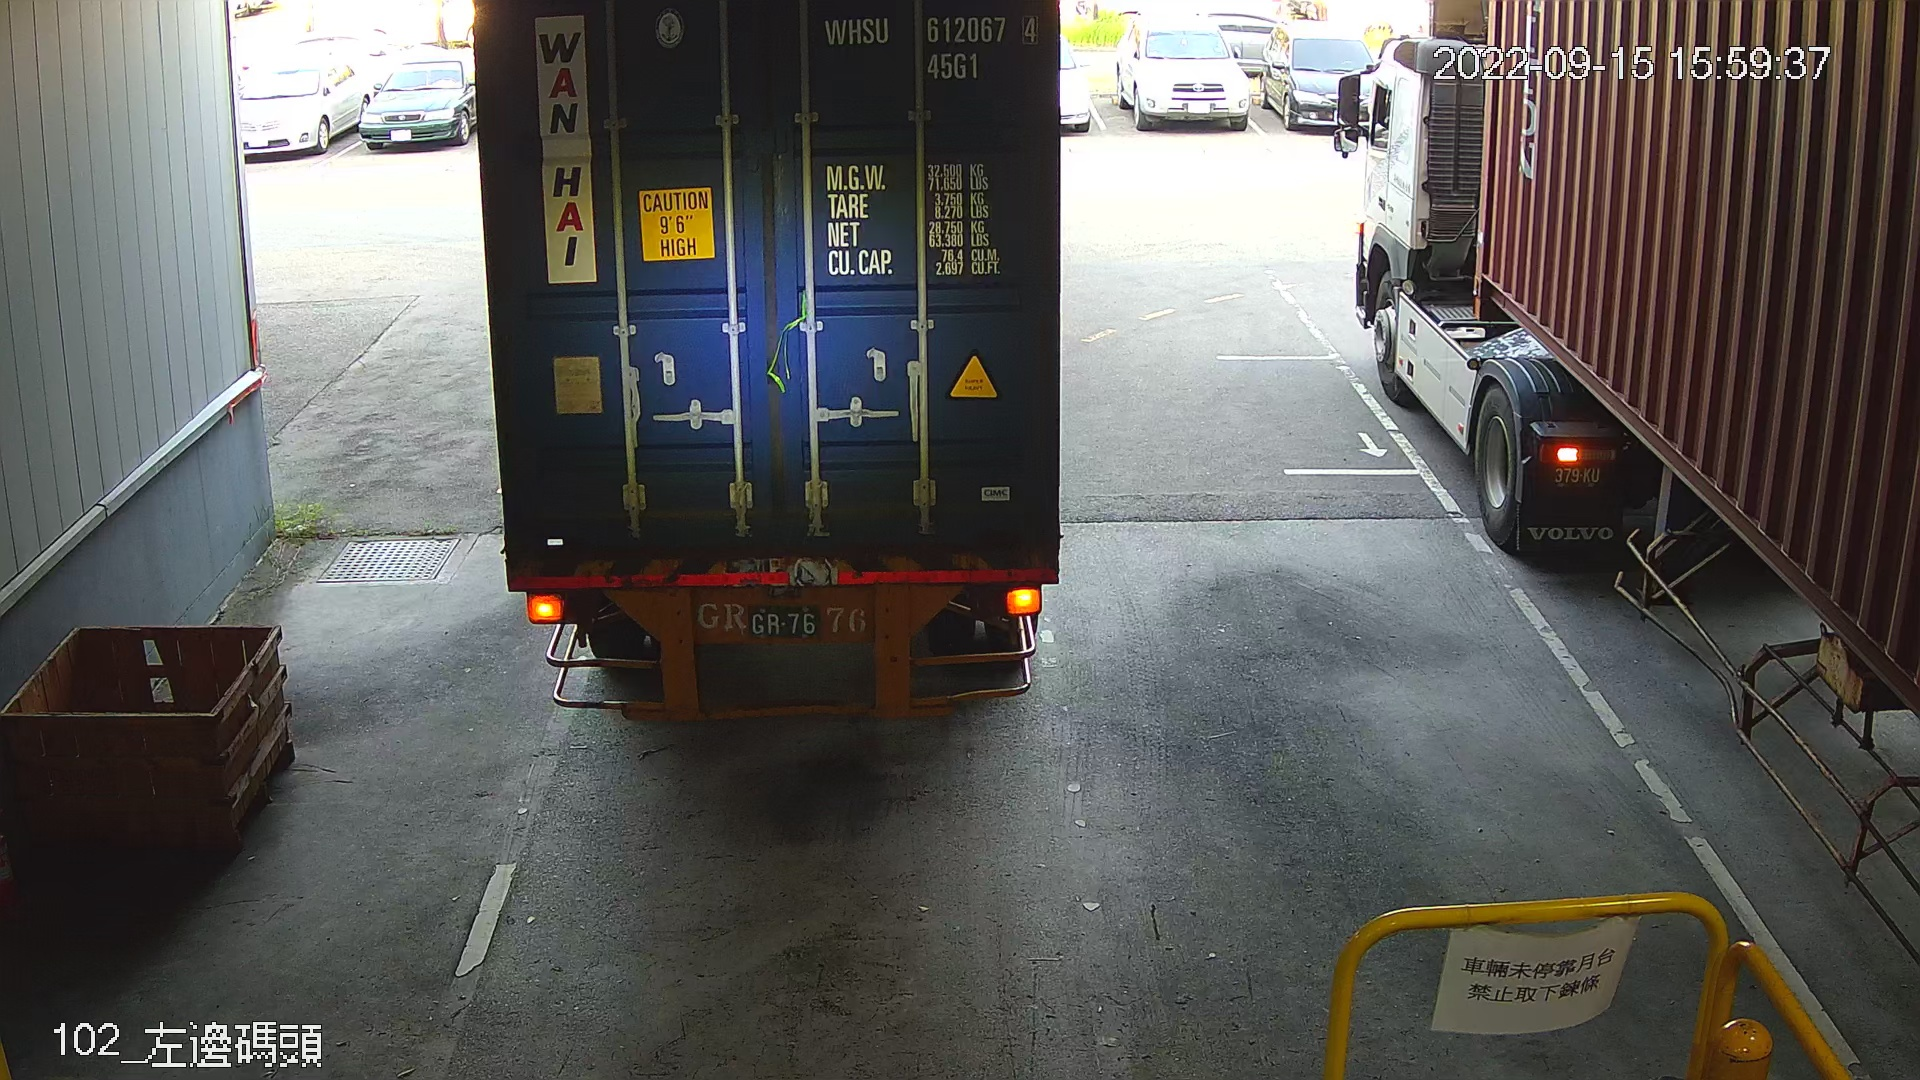container: (816, 5, 1047, 88)
